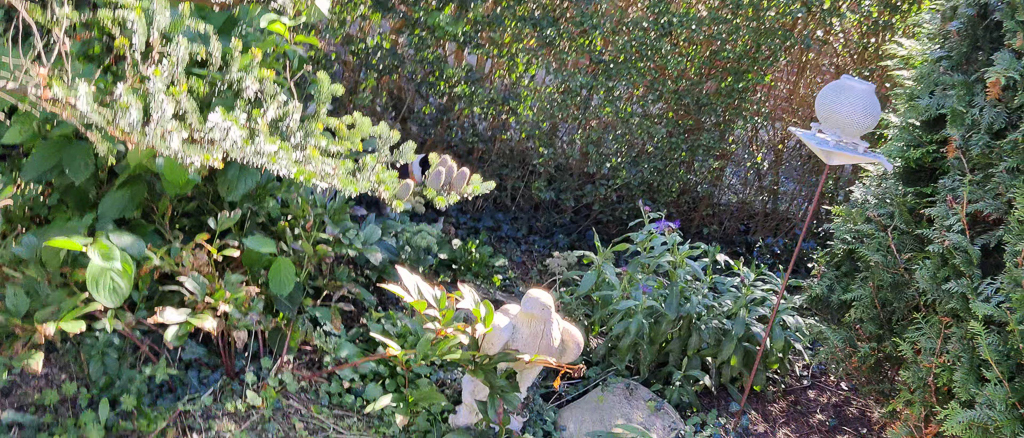Dog: (371, 138, 450, 210)
Eagle: (431, 273, 608, 438)
